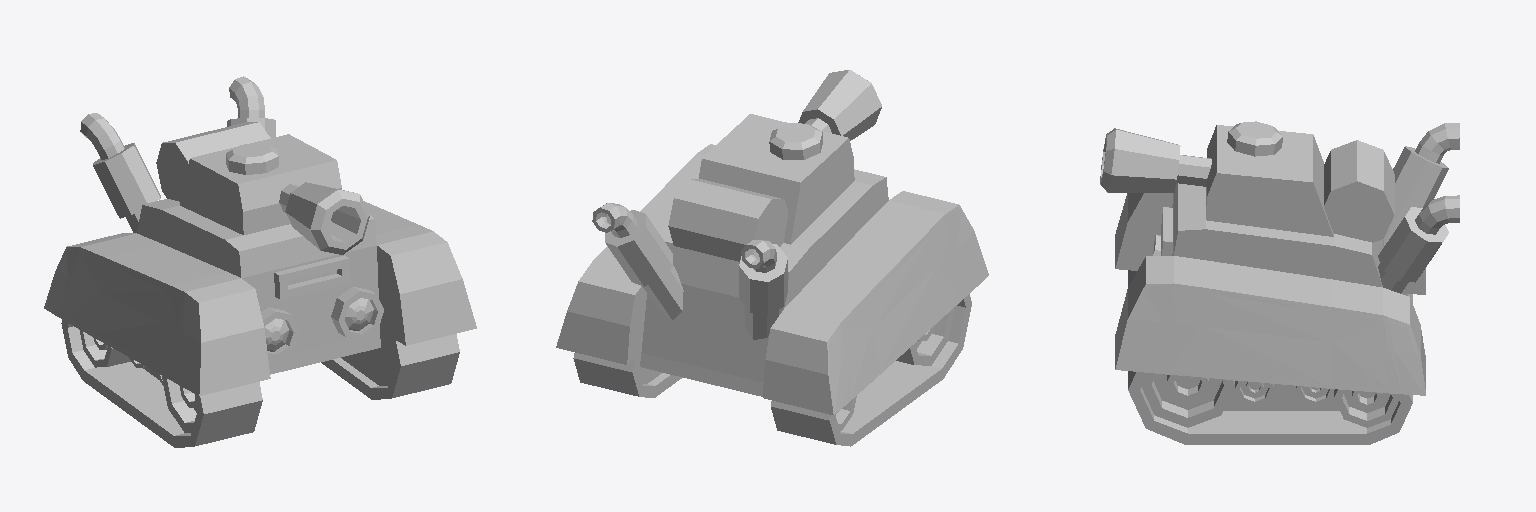
Rendered from Tank1.obj.
3 renders of one model, left to right at view 1: azimuth 30°, elevation 25°; view 2: azimuth 150°, elevation 25°; view 3: azimuth 270°, elevation 25°, orthographic.
Parts seen in each view (by area): view 1: headusOBJexport; view 2: headusOBJexport; view 3: headusOBJexport.
Boxes of the visible parts, x1=… form: headusOBJexport: x1=44, y1=76, x2=476, y2=447; headusOBJexport: x1=556, y1=70, x2=988, y2=446; headusOBJexport: x1=1100, y1=121, x2=1459, y2=444.
Bounding box in the file's own units: 12.21 × 10.63 × 13.71.